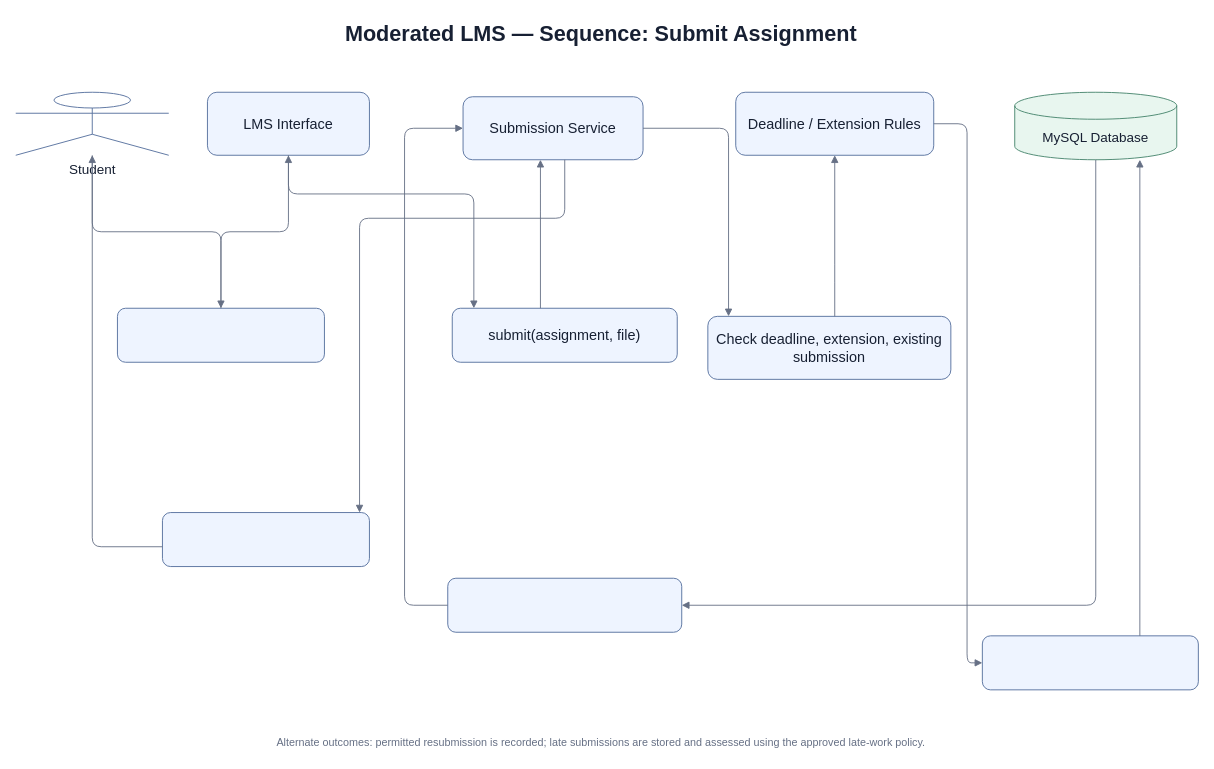
Some shapes in this 1214 by 769 pixel diagram are drawn without their labels. The centre of each missing label's shape, as x and y in pixels:
"Return submission ID and status" goes at (x=564, y=604).
"Save submission + timestamp" goes at (x=1089, y=662).
"Select assignment and upload file" goes at (x=220, y=334).
"Show confirmation/status" goes at (x=265, y=539).
